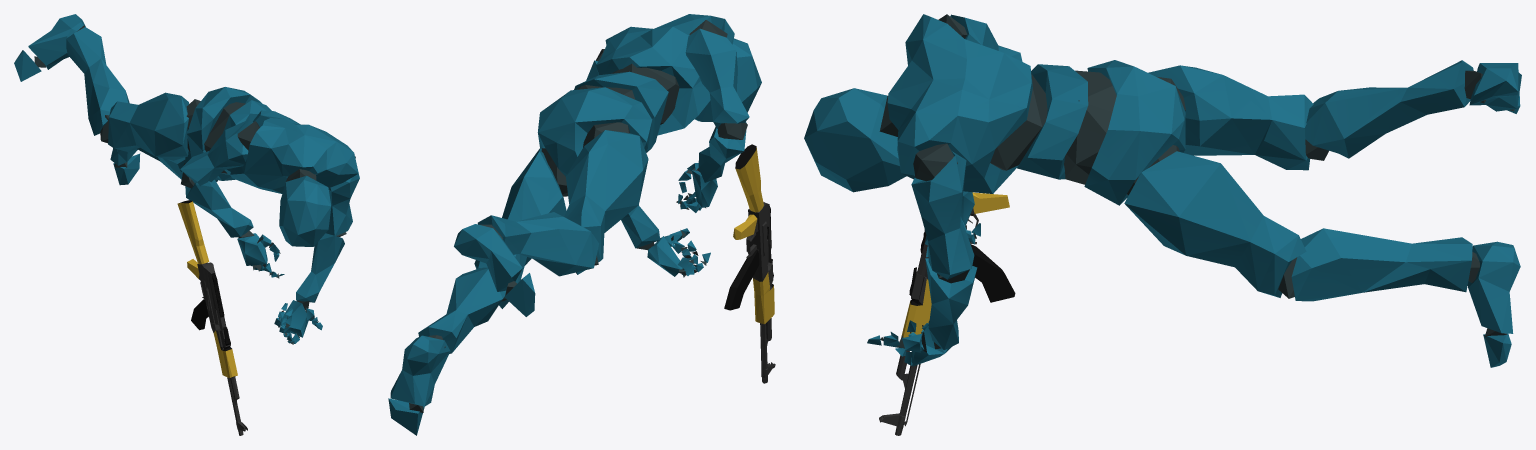
The model's file is EnemyDying_000024.obj.
3 renders of one model, left to right at view 1: azimuth 30°, elevation 25°; view 2: azimuth 150°, elevation 25°; view 3: azimuth 270°, elevation 25°, orthographic. The views are drawn at different scales.
Visible parts, largest first — view 1: Alpha_Surface, AK-47_Cube, Alpha_Joints; view 2: Alpha_Surface, AK-47_Cube, Alpha_Joints; view 3: Alpha_Surface, Alpha_Joints, AK-47_Cube.
Boxes of the visible parts, bbox=[...] form: Alpha_Surface: bbox=[14, 14, 359, 343]; AK-47_Cube: bbox=[177, 200, 247, 435]; Alpha_Joints: bbox=[34, 25, 355, 344]; Alpha_Surface: bbox=[388, 14, 761, 435]; AK-47_Cube: bbox=[724, 144, 775, 383]; Alpha_Joints: bbox=[409, 20, 747, 412]; Alpha_Surface: bbox=[804, 14, 1521, 367]; Alpha_Joints: bbox=[879, 14, 1514, 366]; AK-47_Cube: bbox=[879, 192, 1015, 435].
Bounding box in the file's own units: 120 × 221 × 323.
